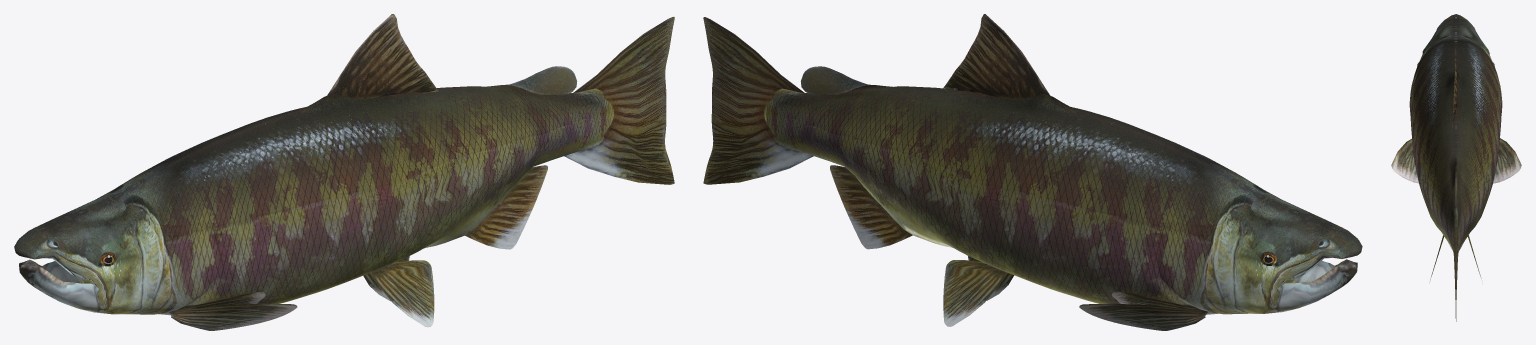
File: 10.29_New Big Fish.fbx
3 views of the same model, side by side, from view 1: azimuth 30°, elevation 25°; view 2: azimuth 150°, elevation 25°; view 3: azimuth 270°, elevation 25° (orthographic). The views are drawn at different scales.
Parts seen in each view (by area): view 1: polySurface38; view 2: polySurface38; view 3: polySurface38.
Part boxes in pixels (<box>): polySurface38: <box>14,14,674,330</box>; polySurface38: <box>703,14,1362,330</box>; polySurface38: <box>1391,14,1521,321</box>.
Bounding box in the file's own units: 101 × 44.78 × 23.08.
Materials: 1 (1 with a texture image).
